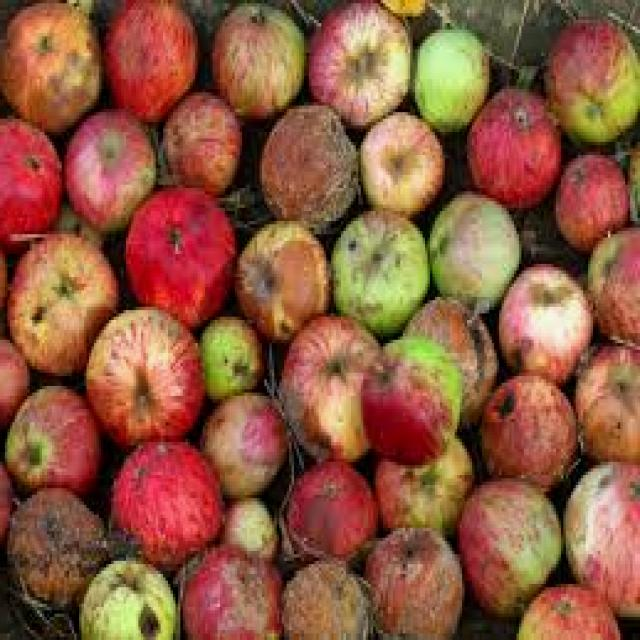wet: (90, 308, 204, 447), (12, 232, 120, 373), (126, 190, 236, 328), (281, 316, 382, 464), (112, 439, 224, 570), (458, 480, 562, 620), (356, 343, 467, 469), (308, 0, 412, 129), (4, 1, 102, 132), (8, 487, 108, 608), (402, 300, 498, 426), (543, 20, 638, 147), (333, 211, 429, 334), (564, 462, 639, 618), (364, 526, 464, 639), (239, 222, 332, 343), (483, 374, 579, 491), (104, 0, 198, 119), (213, 2, 306, 120), (67, 110, 156, 233), (501, 265, 593, 383), (5, 385, 101, 497), (431, 193, 521, 309), (376, 433, 475, 537), (467, 78, 555, 193), (284, 460, 378, 566), (253, 119, 345, 223), (182, 546, 283, 640), (202, 394, 288, 501), (361, 112, 444, 217), (408, 13, 491, 109), (164, 94, 242, 196), (0, 119, 62, 244), (576, 345, 640, 463), (281, 558, 373, 640), (81, 560, 176, 638), (556, 152, 630, 250), (586, 227, 639, 346), (200, 316, 264, 400)
